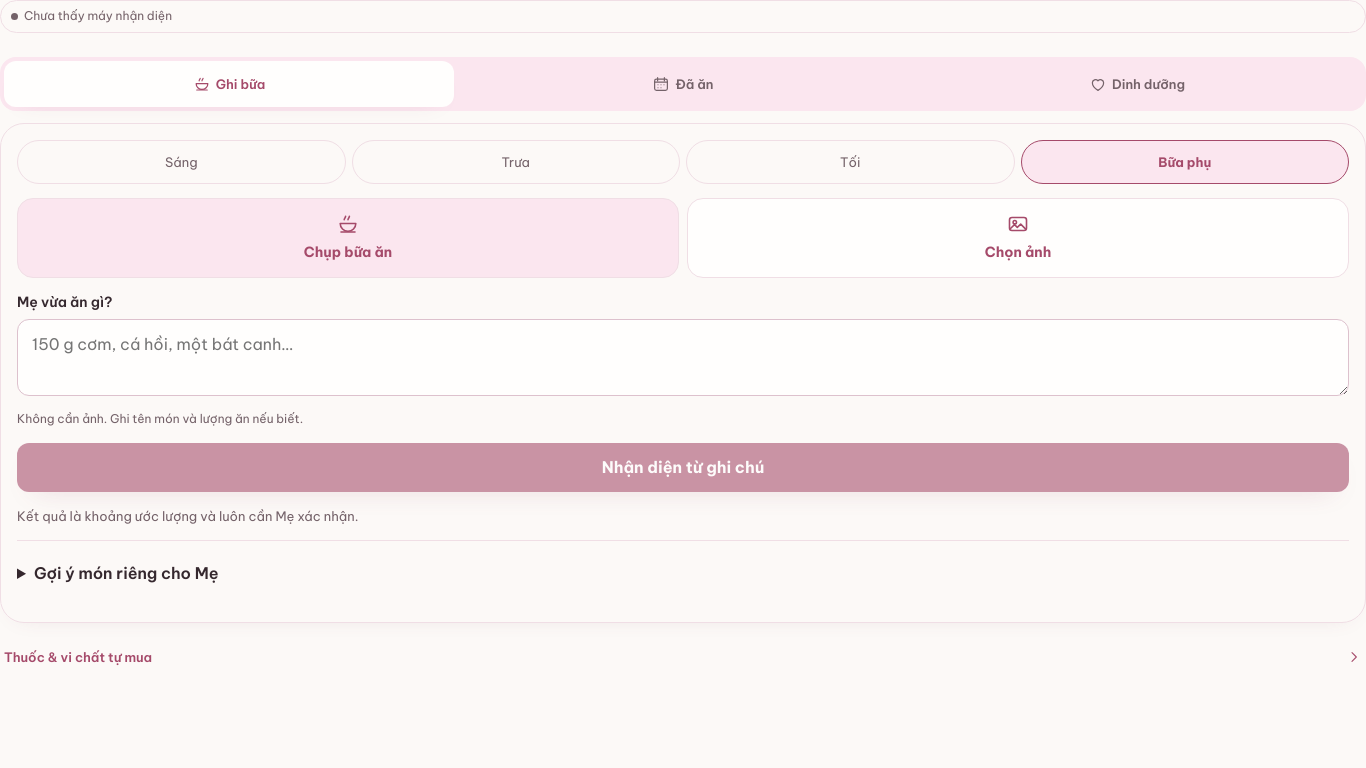
Scenario: mobile meal journal › recognizes a written meal and asks the mother to review it when no photo is selected
This screenshot has width=1366, height=768.
Type "Một ly sữa và một quả chuối" into the text box named "Ghi chú món ăn · có thể lưu không cần ảnh" at (683, 358), box [17, 319, 1349, 396]
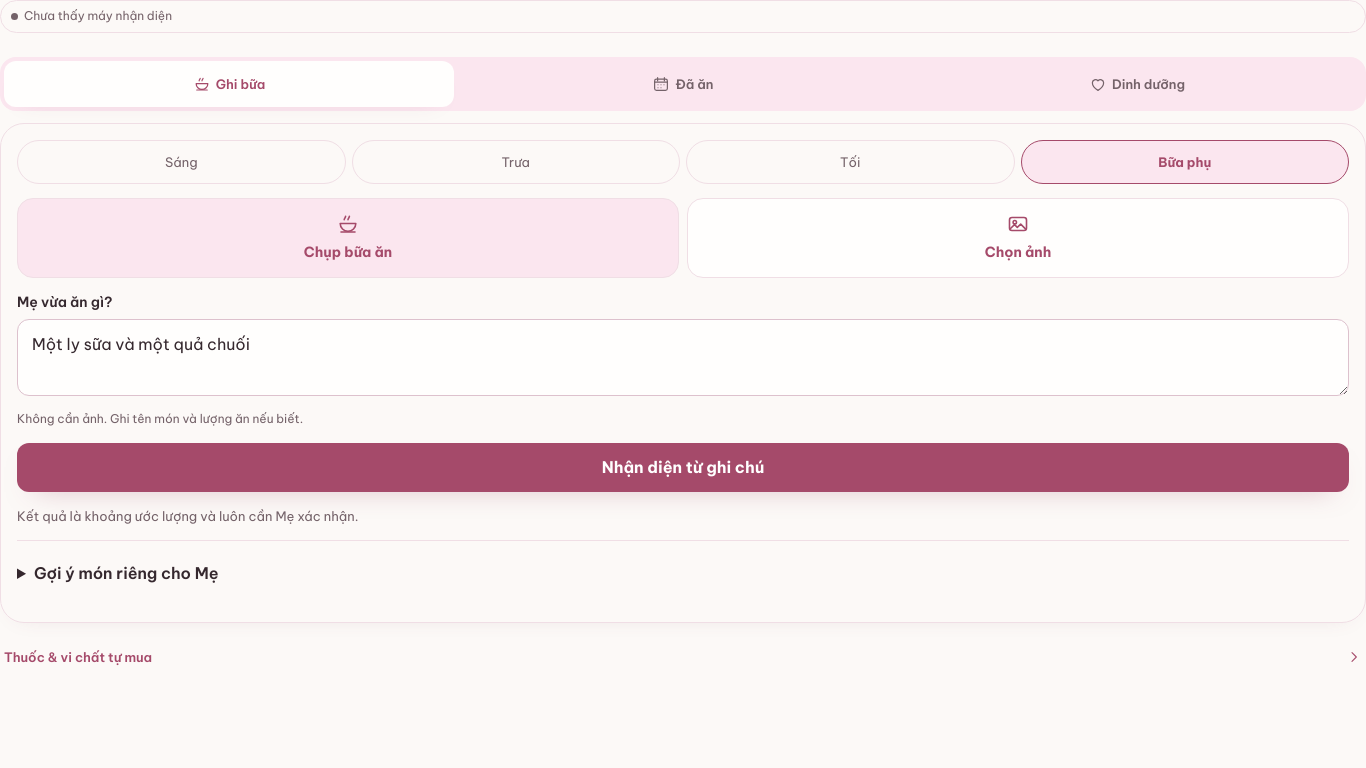
Expected: the button "Nhận diện từ ghi chú" is enabled
Click the button "Nhận diện từ ghi chú" at (683, 468), box [17, 443, 1349, 492]
(page scrolled)
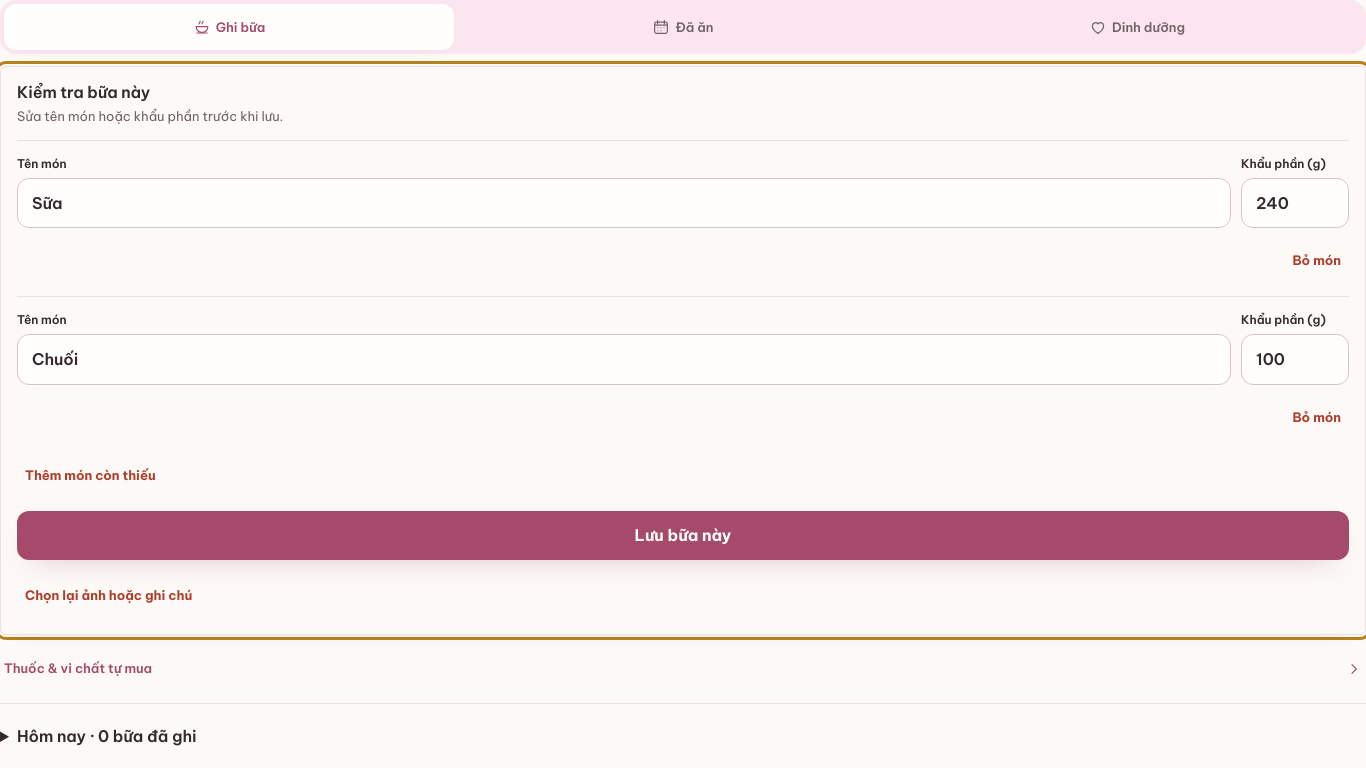
Expected: the button "Lưu bữa này" is enabled, [17, 511, 1349, 560]
Expected: the 1st field showing "Sữa" is shown, [17, 178, 1231, 228]
Expected: the 2nd field showing "Chuối" is shown, [17, 334, 1231, 385]
